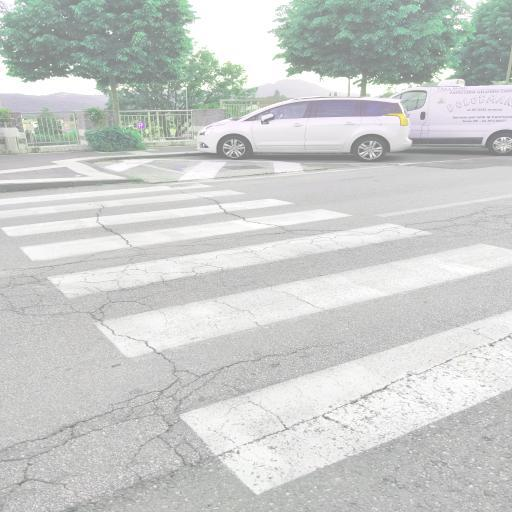crosswalk: (0, 206, 435, 302)
